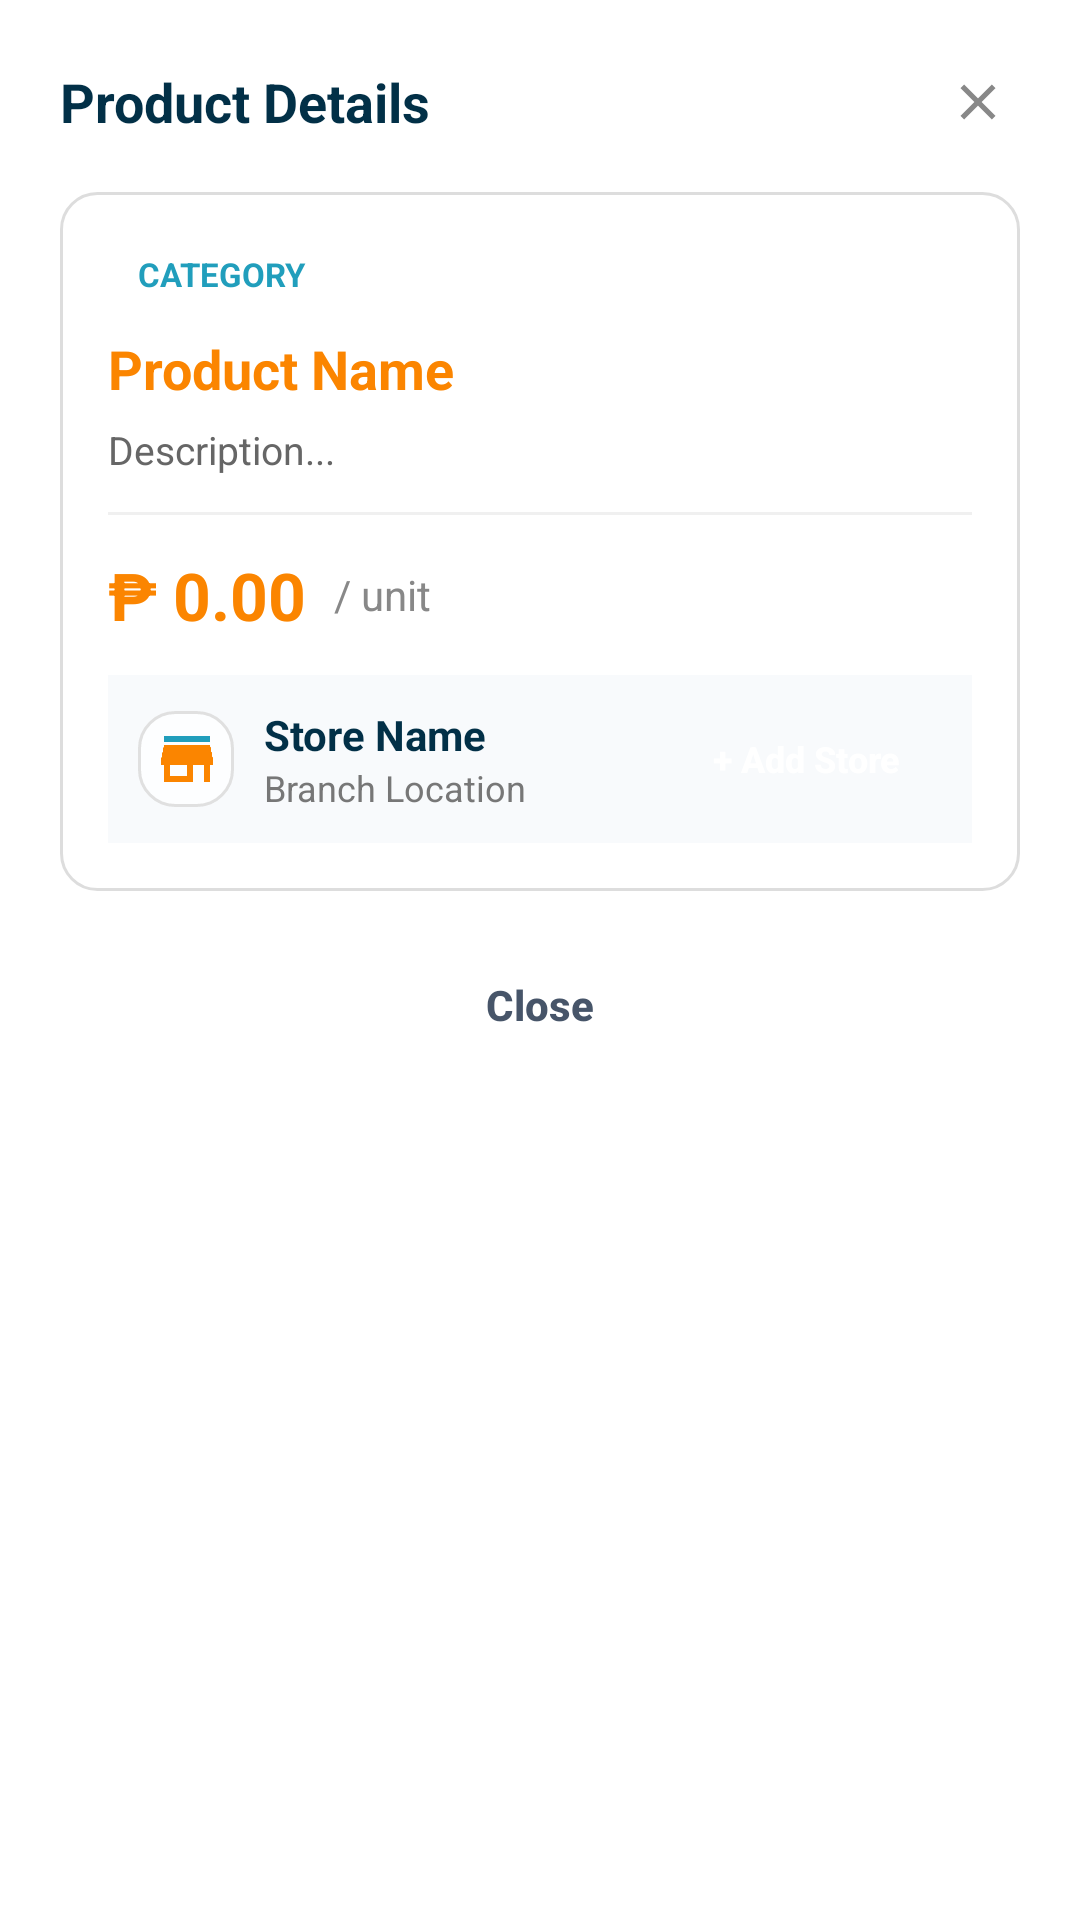

Icon bounding boxes for this 1080*1920 phone screenshot, format (x1, y1, x2, y2):
Close: (961, 85, 995, 119)
